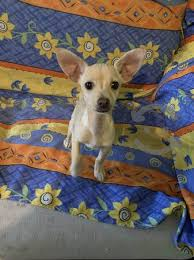chihuahua: (48, 40, 151, 190)
